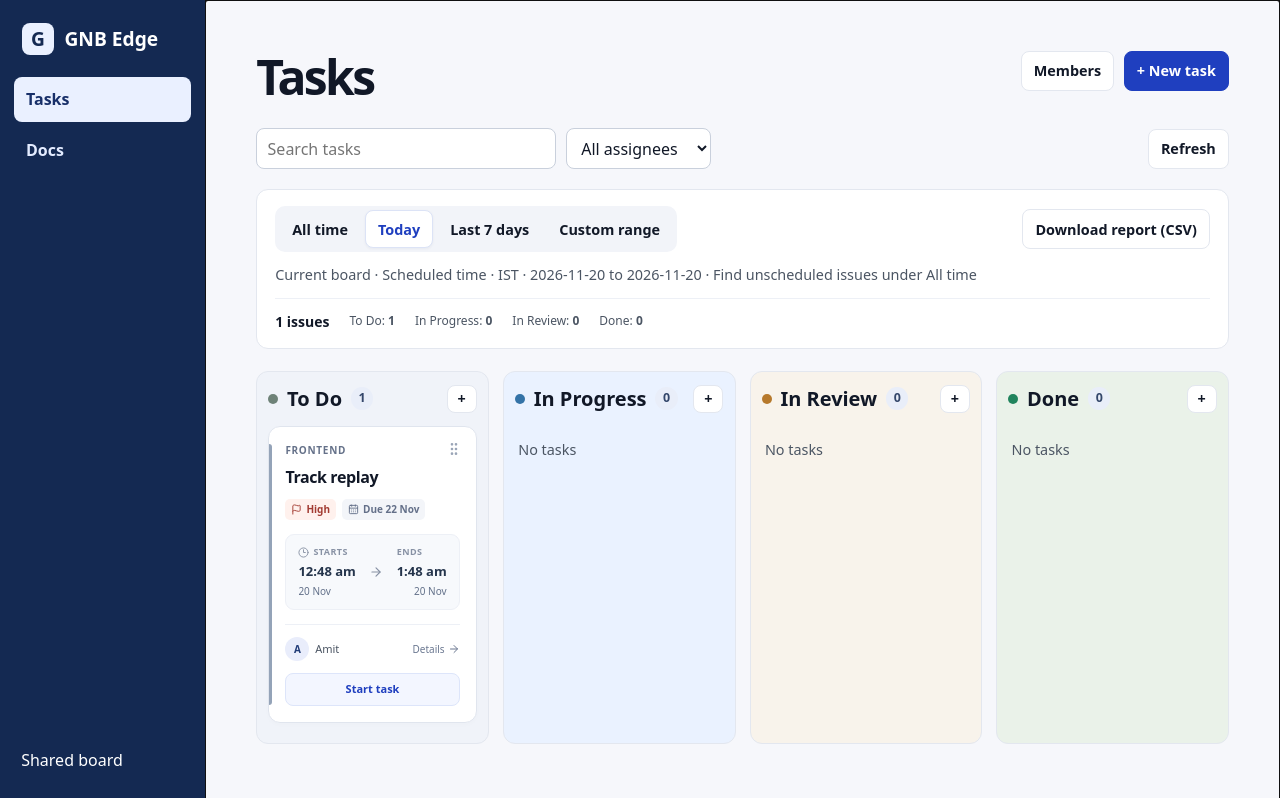
Test: Scheduled views and new-issue photos › defaults to today and exposes unscheduled and future work under All time
The width and height of the screenshot is (1280, 798).
Expected: the heading "Track replay" is shown, [285,466,378,488]
Expected: the heading "Future issue" is not shown
Click the button "All time": (320, 229) [279,210,361,248]
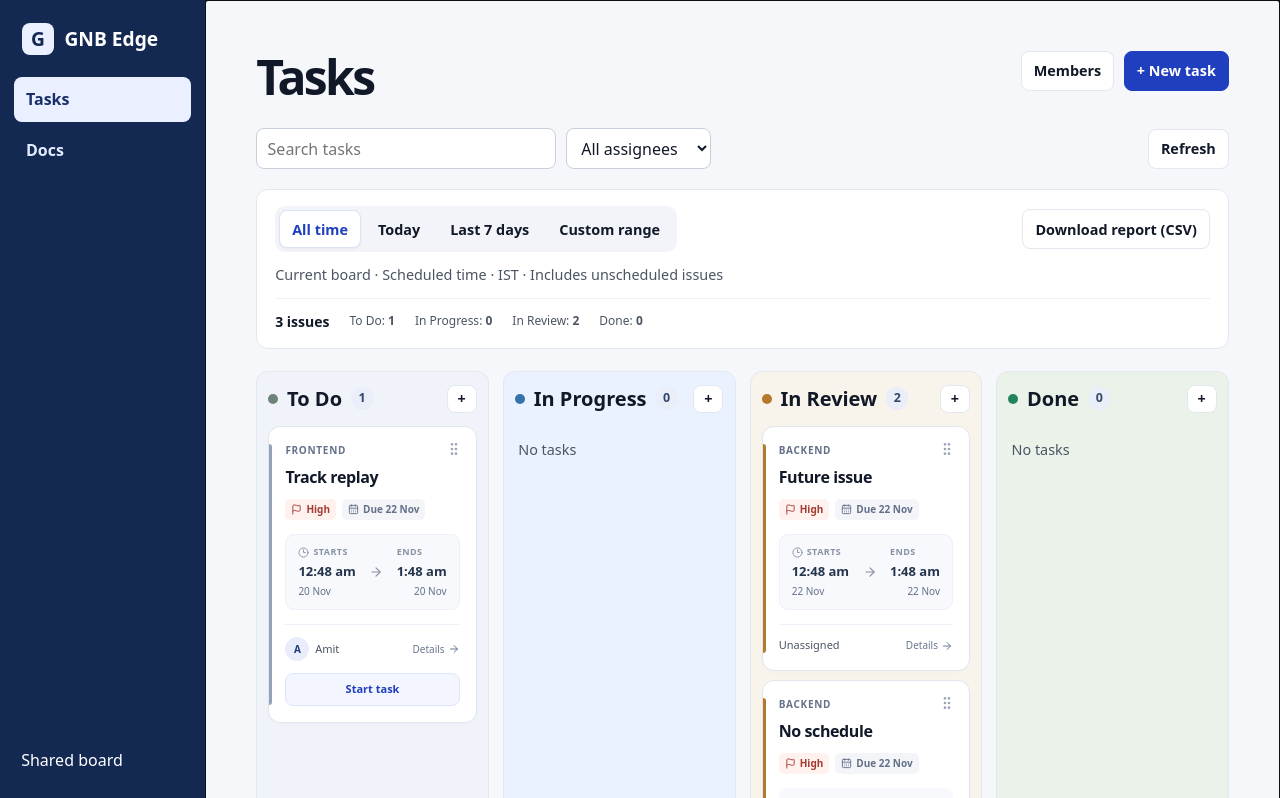
Result: the heading "Future issue" is shown at [779,466,872,488]
Result: the heading "No schedule" is shown at [779,720,872,742]
Click the button "Custom range": (610, 229) [546,210,673,248]
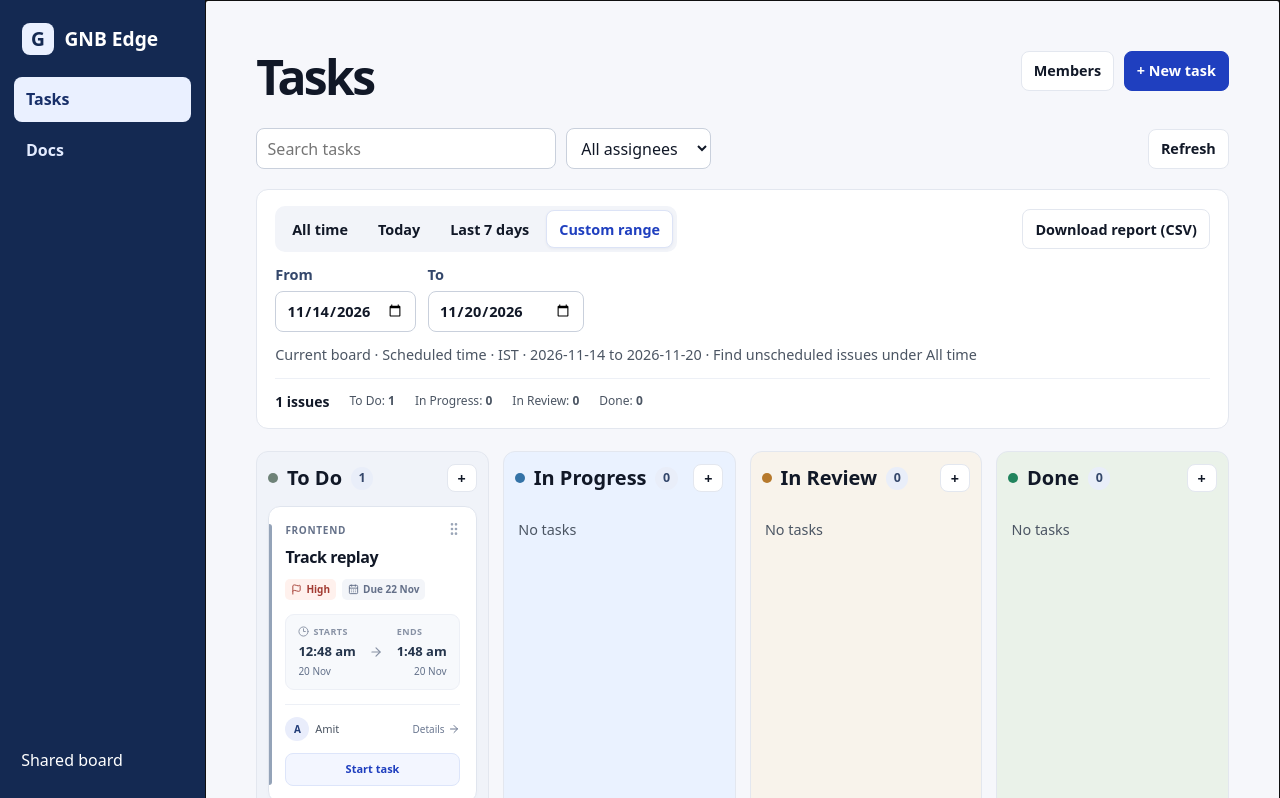
Clear the date field labelled "From": (345, 312) [275,291,416,332]
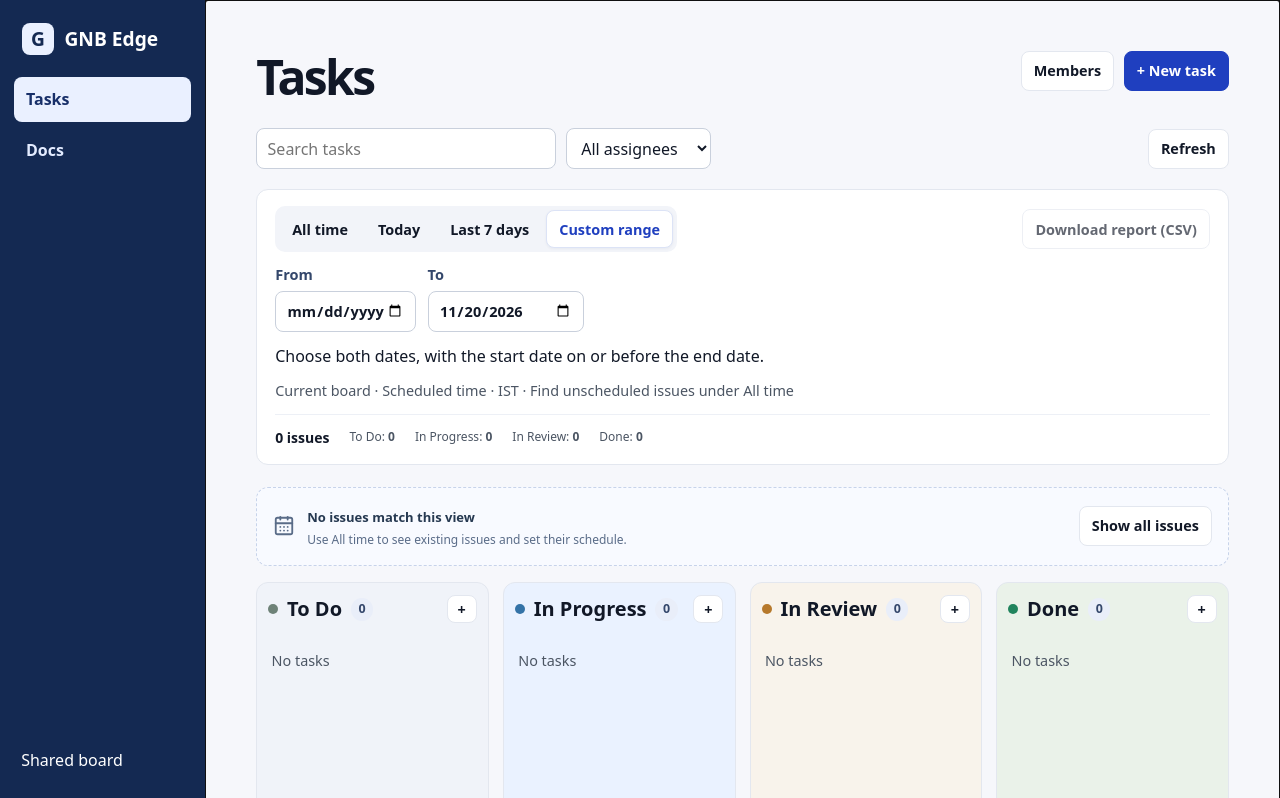
Result: the button "Download report (CSV)" is disabled at [1022,209,1210,249]
Result: the message shows "Choose both dates" at [275,345,764,367]
